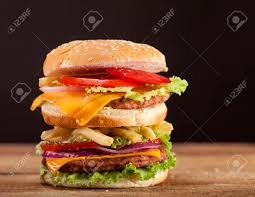hamburger: (34, 38, 173, 186)
